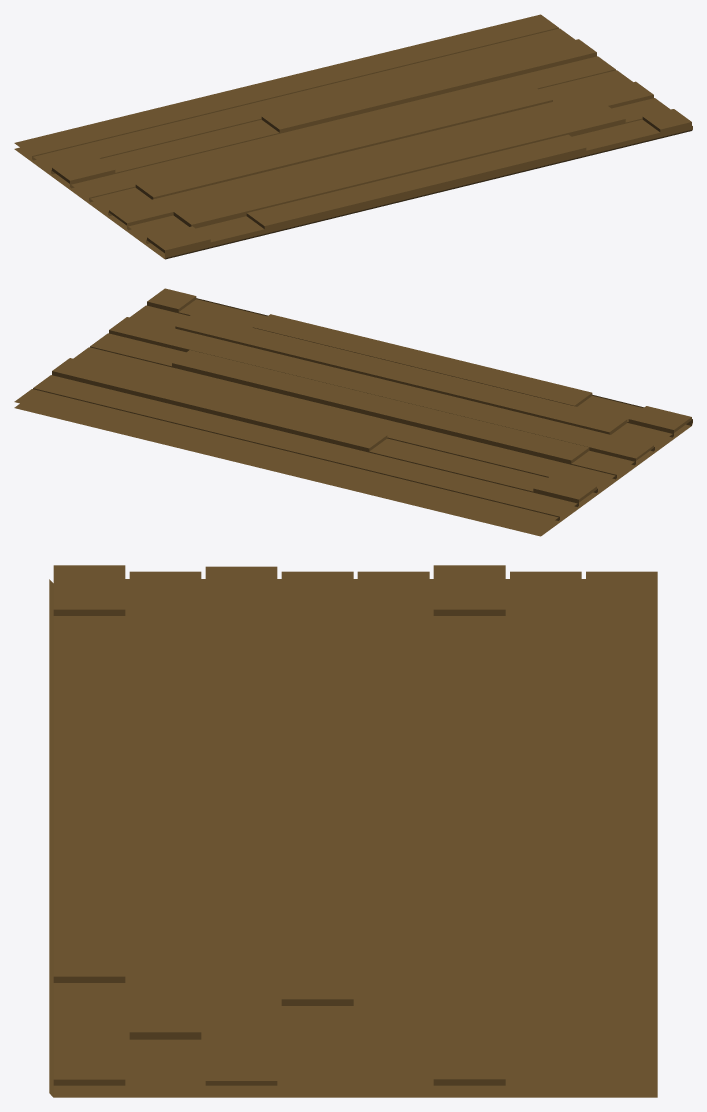
The model's file is FloorWood2x4.fbx.
3 renders of one model, top to bottom at view 1: azimuth 30°, elevation 25°; view 2: azimuth 150°, elevation 25°; view 3: azimuth 270°, elevation 25°, orthographic. The views are drawn at different scales.
Parts seen in each view (by area): view 1: FloorWood2x2.002; view 2: FloorWood2x2.002; view 3: FloorWood2x2.002.
Part boxes in pixels (bbox=[...]): FloorWood2x2.002: bbox=[14, 14, 692, 259]; FloorWood2x2.002: bbox=[14, 288, 692, 536]; FloorWood2x2.002: bbox=[49, 565, 657, 1097].
Size of the model in its own units: 400 by 7 by 200.
